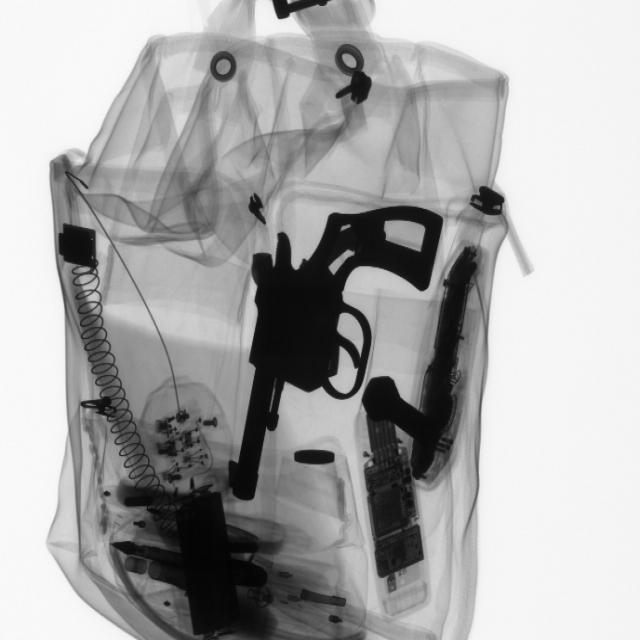GUN: (225, 214, 448, 501)
